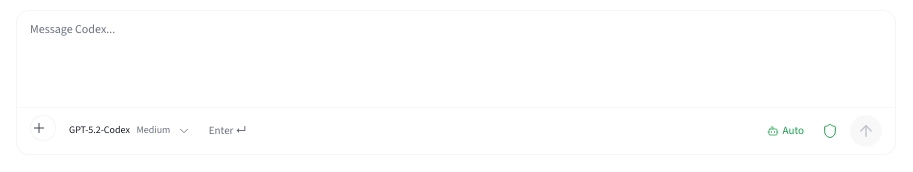
Test: ChatInputArea › add menu › closes add menu on second click
This screenshot has width=913, height=172.
Click the button named "Add" at (43, 128), box x1=30 y1=115 x2=56 y2=141
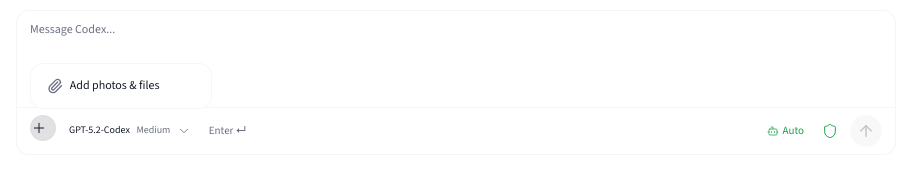
expect the button "Add photos & files" is shown: met, box x1=38 y1=71 x2=204 y2=101
Click the button named "Add" at (43, 128), box x1=30 y1=115 x2=56 y2=141
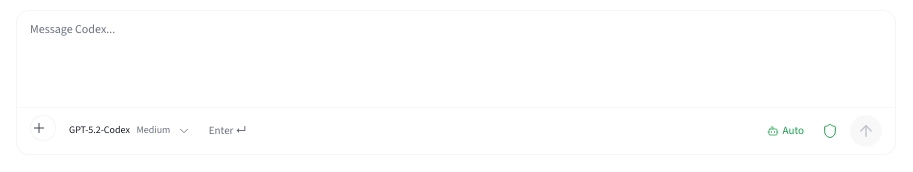
expect the button "Add photos & files" is gone: met
